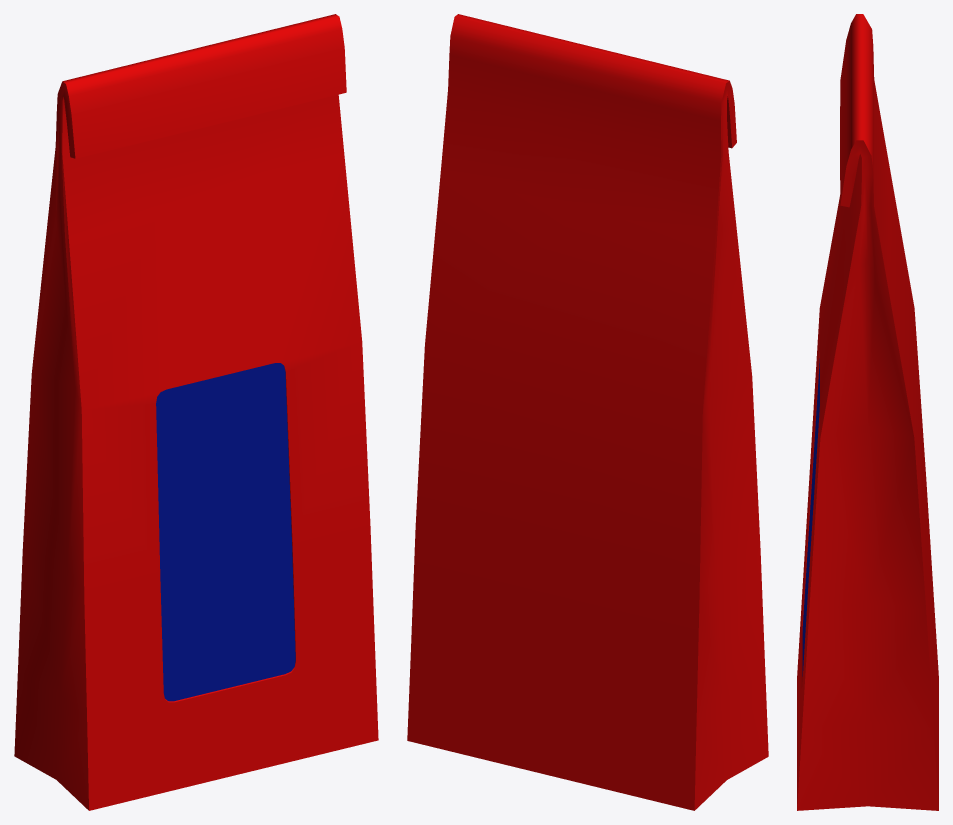
The model's file is SM_Evidence_Package_5_closed.FBX.
The picture shows the model from 3 angles, left to right: view 1: azimuth 30°, elevation 25°; view 2: azimuth 150°, elevation 25°; view 3: azimuth 270°, elevation 25°; orthographic projection. The views are drawn at different scales.
Parts seen in each view (by area): view 1: Evidence_Package_5_closed; view 2: Evidence_Package_5_closed; view 3: Evidence_Package_5_closed.
Boxes of the visible parts, x1=… form: Evidence_Package_5_closed: x1=14, y1=14, x2=378, y2=810; Evidence_Package_5_closed: x1=407, y1=14, x2=768, y2=810; Evidence_Package_5_closed: x1=797, y1=14, x2=938, y2=810.
Size of the model in its own units: 11.13 by 25.82 by 4.98.
